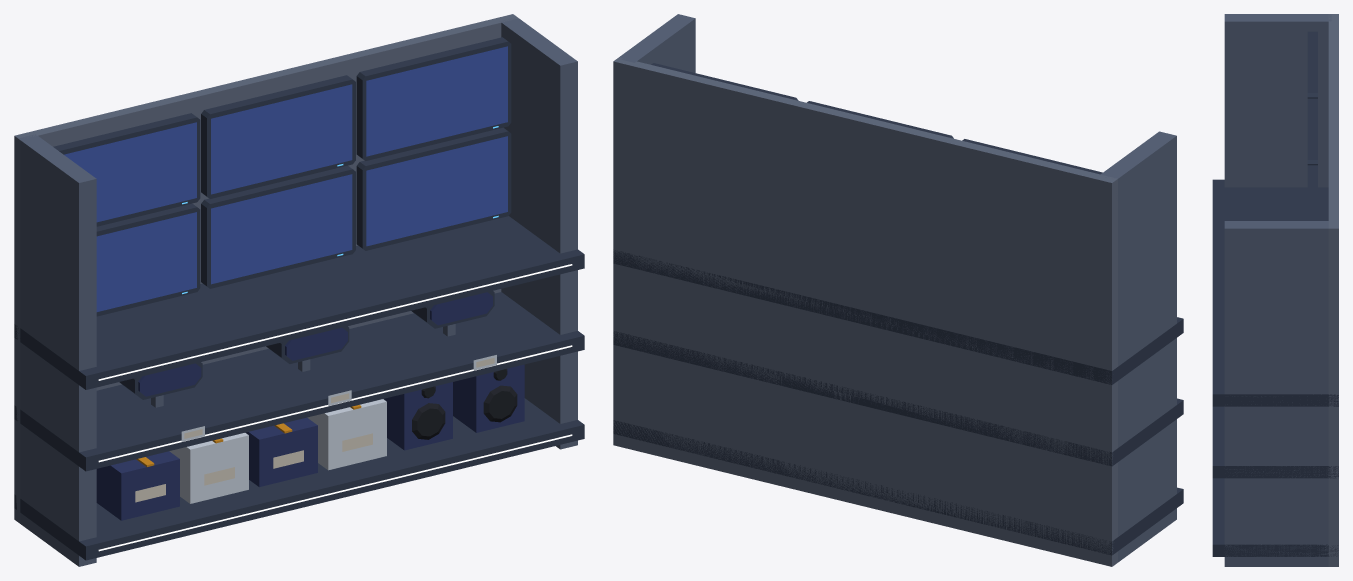
File: mall_electronics_shelf.glb
3 renders of one model, left to right at view 1: azimuth 30°, elevation 25°; view 2: azimuth 150°, elevation 25°; view 3: azimuth 270°, elevation 25°, orthographic. The views are drawn at different scales.
Parts seen in each view (by area): view 1: deck, upright, broadcast.001, curved_lens, broadcast, spine, stock_carton.001, shelf_led, cone, barcode; view 2: spine, deck, upright; view 3: upright, deck, spine.
Boxes of the visible parts, <box> form: deck: <box>14,37,584,560</box>; upright: <box>18,17,577,566</box>; broadcast.001: <box>211,46,507,284</box>; curved_lens: <box>96,292,524,520</box>; broadcast: <box>64,122,196,311</box>; spine: <box>14,14,518,523</box>; stock_carton.001: <box>169,355,496,503</box>; shelf_led: <box>98,264,572,551</box>; cone: <box>412,369,517,439</box>; barcode: <box>135,358,494,502</box>; spine: <box>613,57,1117,566</box>; deck: <box>613,63,1183,555</box>; upright: <box>619,14,1176,562</box>; upright: <box>1224,14,1331,566</box>; deck: <box>1212,31,1338,556</box>; spine: <box>1328,14,1338,566</box>.
Size of the model in its own units: 3.4 by 2.5 by 0.85.
